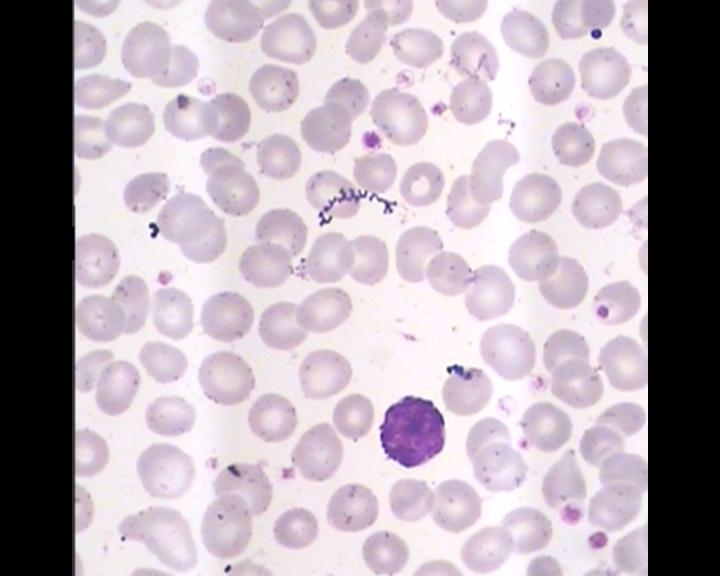baso: (379, 388, 450, 469)
